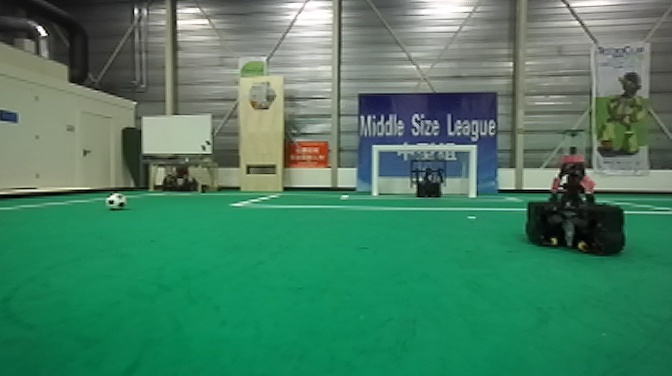ball: (104, 190, 127, 214)
goal: (370, 142, 479, 202)
goalpost: (466, 142, 479, 201), (370, 143, 380, 199)
robot: (522, 126, 628, 259), (408, 157, 450, 199)
